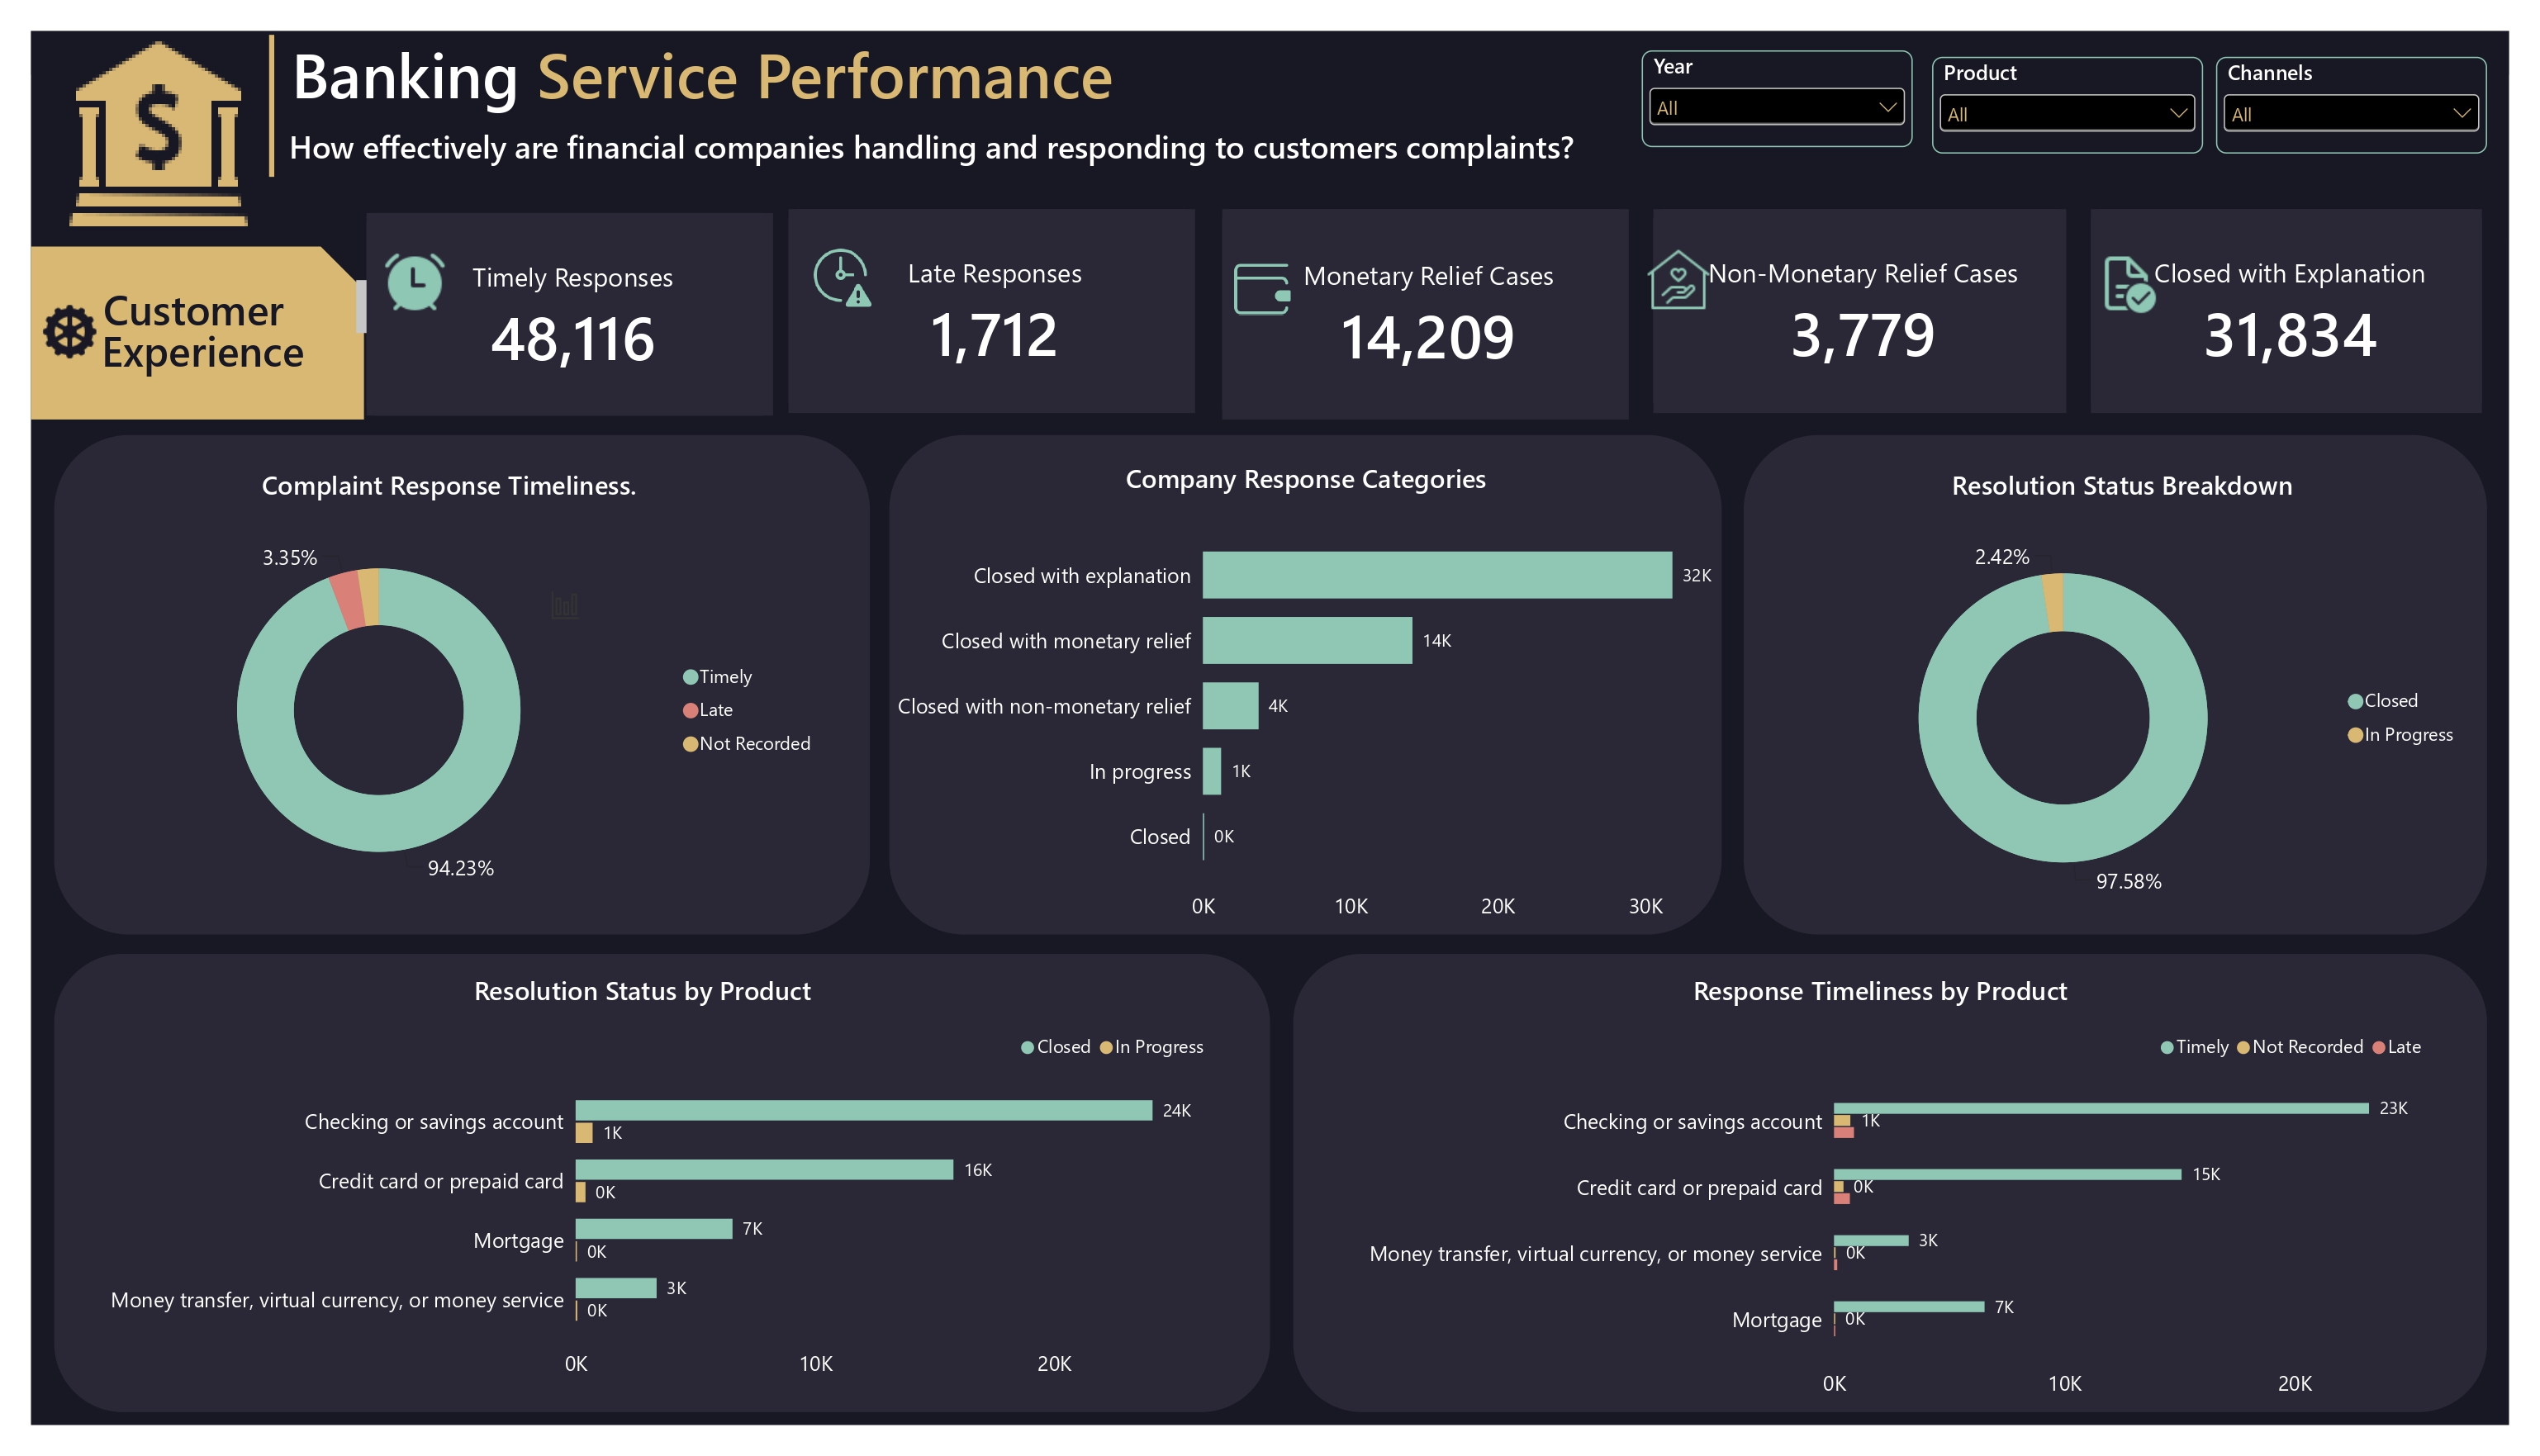

The dashboard page shown, as its layout file describes it:
{"tool":"powerbi","page":{"name":"Service Performance","canvas":[1920,1080],"ordinal":1},"visuals":[{"type":"textbox","box":[201.2,0,972.5,100.6],"z":0,"group":"g2"},{"type":"shape","box":[0,166.6,258.1,133.7],"z":0,"group":"g3"},{"type":"shape","box":[17.5,715,942.5,355],"z":0},{"type":"textbox","box":[199.5,72.5,1030,67.5],"z":1000,"group":"g2"},{"type":"image","box":[0,210,61,44.6],"z":1000,"group":"g3"},{"type":"lineChart","fields":{"Category":["Banking_Complaints_Clean.Complaint Month"],"Y":["Measures (2).Total Complaints"]},"box":[210,415.3,408.3,62.2],"z":1000,"group":"g1"},{"type":"shape","box":[977.5,715,925,355],"z":1000},{"type":"textbox","box":[0,192.5,260,42.5],"z":2000,"group":"g3"},{"type":"shape","box":[1326.7,313.3,576.7,386.7],"z":2000},{"type":"textbox","box":[55,225,202.5,45],"z":3000,"group":"g3"},{"type":"shape","box":[665,312.5,645,387.5],"z":3000},{"type":"shape","box":[18.3,313.3,631.7,386.7],"z":4000},{"type":"group","id":"g1","title":"Group 1","box":[210,415.3,408.3,62.2],"z":5000},{"type":"cardVisual","title":"Total Complaints","fields":{"Data":["Measures (2).Late Responses"]},"box":[586.9,138.4,314.9,157.5],"z":6000},{"type":"cardVisual","title":"Total Complaints","fields":{"Data":["Measures (2).Monetary Relief Cases"]},"box":[923.3,138.4,314.9,162.2],"z":8000},{"type":"cardVisual","title":"Total Complaints","fields":{"Data":["Measures (2).Closed with Explanation"]},"box":[1596.2,138.4,303,157.5],"z":9000},{"type":"group","id":"g2","title":"Group 2","box":[199.5,0,1030,140],"z":10000},{"type":"cardVisual","title":"Total Complaints","fields":{"Data":["Measures (2).Non-Monetary Relief Cases"]},"box":[1257.4,138.4,319.7,157.5],"z":11000},{"type":"clusteredBarChart","title":"Resolution Status by Product","fields":{"Category":["Banking_Complaints_Clean.Product"],"Series":["Banking_Complaints_Clean.Resolution_Status"],"Y":["Measures (2).Total Complaints"]},"box":[17.5,715,912,350],"z":12000},{"type":"clusteredBarChart","title":"Company Response Categories","fields":{"Category":["Banking_Complaints_Clean.Company response to consumer"],"Y":["Measures (2).Total Complaints"]},"box":[637.5,317.5,700,392.5],"z":16000},{"type":"donutChart","title":"Resolution Status Breakdown","fields":{"Category":["Banking_Complaints_Clean.Resolution_Status"],"Y":["Measures (2).Total Complaints"]},"box":[1337.5,322.5,565,377.5],"z":17000},{"type":"clusteredBarChart","title":"Response Timeliness by Product","fields":{"Category":["Banking_Complaints_Clean.Product"],"Series":["Banking_Complaints_Clean.Response_Timeliness"],"Y":["Measures (2).Total Complaints"]},"box":[992.5,715,880,365],"z":18000},{"type":"slicer","fields":{"Values":["Banking_Complaints_Clean.Product"]},"box":[1472.5,20,210,75],"z":19000},{"type":"slicer","fields":{"Values":["Banking_Complaints_Clean.Submitted via"]},"box":[1692.5,20,210,75],"z":20000},{"type":"slicer","fields":{"Values":["Banking_Complaints_Clean.Date received.Variation.Date Hierarchy.Year"]},"box":[1247.5,15,210,75],"z":21000},{"type":"cardVisual","title":"Total Complaints","fields":{"Data":["Measures (2).Timely Responses"]},"box":[260.1,140.8,314.9,157.5],"z":22000},{"type":"image","box":[260,170,76.2,50],"z":24000},{"type":"image","box":[921.2,170,63,50],"z":25000},{"type":"image","box":[587.5,163.8,78.8,50],"z":26000},{"type":"image","box":[1247.5,167.5,57.5,50],"z":27000},{"type":"image","box":[1592,170,63,50],"z":28000},{"type":"image","box":[16.4,0,164.2,164.2],"z":29000},{"type":"group","id":"g3","title":"Group 3","box":[0,166.6,260,133.7],"z":30000},{"type":"actionButton","box":[17.5,187.5,222.5,110],"z":31000},{"type":"shape","box":[115,2.5,142.5,110],"z":32000},{"type":"donutChart","title":"Complaint Response Timeliness.","fields":{"Category":["Banking_Complaints_Clean.Response_Timeliness"],"Y":["Measures (2).Total Complaints"]},"box":[17.5,322.5,612.5,365],"z":33000}]}

Visuals, with their boxes on the page's 1920x1080 design canvas (x1, y1, x2, y2). These are canvas units, not pixel positions in the 2540x1456 screenshot, which may show the page scaled, cropped or inside an application window:
textbox: l=201, t=0, r=1174, b=101
shape: l=0, t=167, r=258, b=300
shape: l=18, t=715, r=960, b=1070
textbox: l=200, t=72, r=1230, b=140
image: l=0, t=210, r=61, b=255
lineChart - Banking_Complaints_Clean.Complaint Month x Measures (2).Total Complaints: l=210, t=415, r=618, b=478
shape: l=978, t=715, r=1902, b=1070
textbox: l=0, t=192, r=260, b=235
shape: l=1327, t=313, r=1903, b=700
textbox: l=55, t=225, r=258, b=270
shape: l=665, t=312, r=1310, b=700
shape: l=18, t=313, r=650, b=700
"Group 1" group: l=210, t=415, r=618, b=478
"Total Complaints" cardVisual: l=587, t=138, r=902, b=296
"Total Complaints" cardVisual: l=923, t=138, r=1238, b=301
"Total Complaints" cardVisual: l=1596, t=138, r=1899, b=296
"Group 2" group: l=200, t=0, r=1230, b=140
"Total Complaints" cardVisual: l=1257, t=138, r=1577, b=296
"Resolution Status by Product" clusteredBarChart: l=18, t=715, r=930, b=1065
"Company Response Categories" clusteredBarChart: l=638, t=318, r=1338, b=710
"Resolution Status Breakdown" donutChart: l=1338, t=322, r=1902, b=700
"Response Timeliness by Product" clusteredBarChart: l=992, t=715, r=1872, b=1080
slicer - Banking_Complaints_Clean.Product: l=1472, t=20, r=1682, b=95
slicer - Banking_Complaints_Clean.Submitted via: l=1692, t=20, r=1902, b=95
slicer - Banking_Complaints_Clean.Date received.Variation.Date Hierarchy.Year: l=1248, t=15, r=1458, b=90
"Total Complaints" cardVisual: l=260, t=141, r=575, b=298
image: l=260, t=170, r=336, b=220
image: l=921, t=170, r=984, b=220
image: l=588, t=164, r=666, b=214
image: l=1248, t=168, r=1305, b=218
image: l=1592, t=170, r=1655, b=220
image: l=16, t=0, r=181, b=164
"Group 3" group: l=0, t=167, r=260, b=300
actionButton: l=18, t=188, r=240, b=298
shape: l=115, t=2, r=258, b=112
"Complaint Response Timeliness." donutChart: l=18, t=322, r=630, b=688
